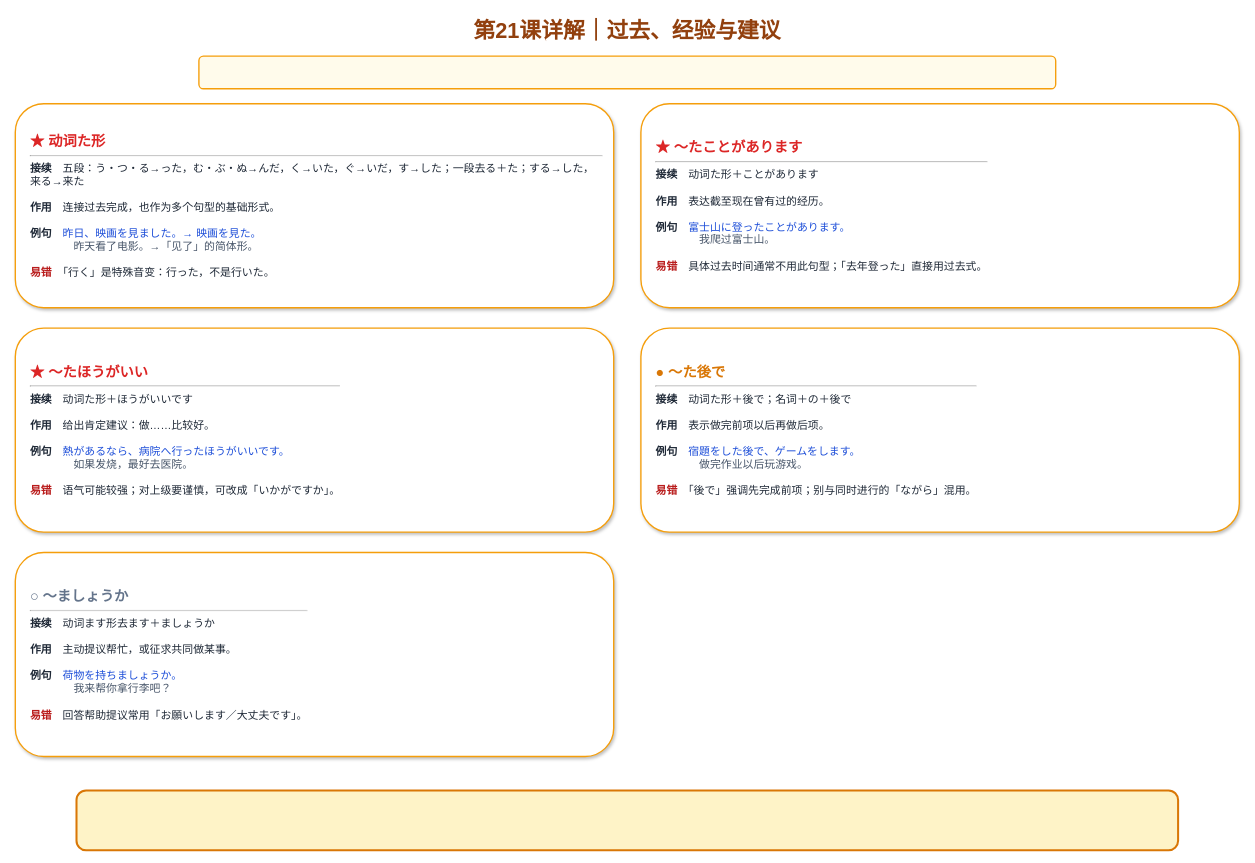
Some shapes in this 1255 by 863 pixel diagram are drawn without their labels. The shapes that lost their labels are listed below. From the top down, each one's centre as x and y in pixels, then its label:
the point at 627,72: 本课目标：先掌握动词「た形」，再表达经历、动作先后和建议。
the point at 627,820: 本课结构关系 「た形」是底座 → 经验「たことがある」／建议「たほうがいい」／先后「た後で」。 最低掌握标准 会把常用动词变成た形，并能各说一句经验和建议。
